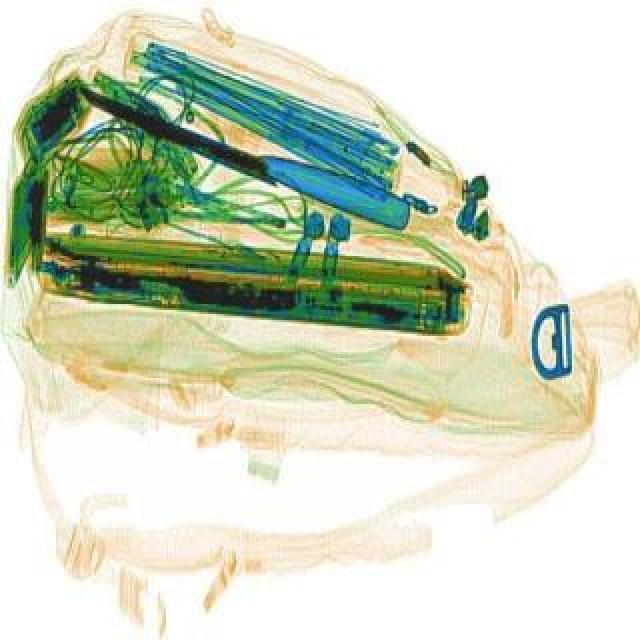knife: (68, 78, 416, 238)
